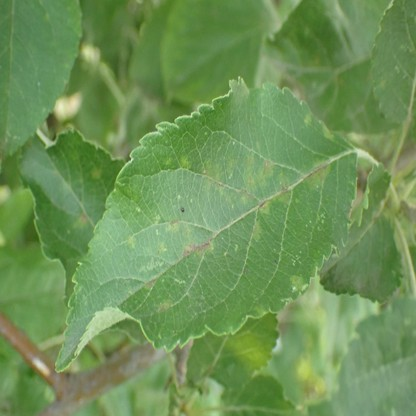scab: (204, 156, 236, 204), (240, 156, 273, 198), (303, 160, 331, 190), (183, 237, 215, 258), (278, 173, 290, 201), (73, 215, 89, 234), (322, 122, 335, 142), (289, 275, 305, 290), (258, 200, 270, 216), (252, 221, 261, 241), (159, 300, 172, 313), (91, 165, 103, 179), (167, 217, 179, 231), (126, 234, 137, 249), (145, 277, 156, 291), (180, 156, 191, 168), (255, 305, 266, 316), (304, 112, 312, 127), (157, 240, 166, 253), (163, 157, 172, 166)
